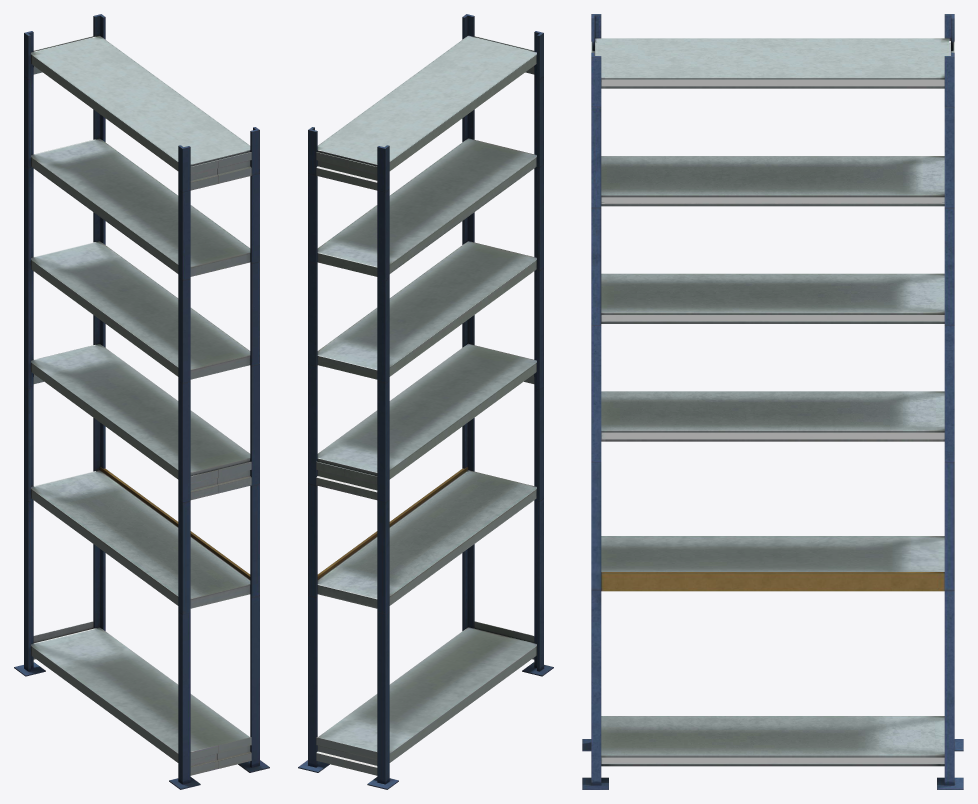
File: stelaj_bake_low.glb
The picture shows the model from 3 angles, left to right: view 1: azimuth 30°, elevation 25°; view 2: azimuth 150°, elevation 25°; view 3: azimuth 270°, elevation 25°; orthographic projection. The views are drawn at different scales.
Visible parts, largest first — view 1: 1_etaj, 3_etaj, 2_etaj, 4_etaj, 6_etaj, 5_etaj; view 2: 1_etaj, 3_etaj, 2_etaj, 4_etaj, 6_etaj, 5_etaj; view 3: 1_etaj, 2_etaj, 3_etaj, 4_etaj, 5_etaj, 6_etaj.
Boxes of the visible parts, bbox=[...] form: 1_etaj: bbox=[14, 498, 269, 789]; 3_etaj: bbox=[24, 267, 259, 502]; 2_etaj: bbox=[24, 385, 259, 614]; 4_etaj: bbox=[24, 165, 259, 383]; 6_etaj: bbox=[24, 14, 259, 192]; 5_etaj: bbox=[24, 75, 259, 280]; 1_etaj: bbox=[298, 498, 553, 789]; 3_etaj: bbox=[308, 267, 543, 502]; 2_etaj: bbox=[308, 385, 543, 614]; 4_etaj: bbox=[308, 165, 543, 383]; 6_etaj: bbox=[308, 14, 543, 192]; 5_etaj: bbox=[308, 75, 543, 280]; 1_etaj: bbox=[582, 590, 963, 789]; 2_etaj: bbox=[591, 462, 954, 591]; 3_etaj: bbox=[591, 325, 954, 462]; 4_etaj: bbox=[591, 208, 954, 325]; 5_etaj: bbox=[591, 107, 954, 208]; 6_etaj: bbox=[591, 14, 954, 106].
Size of the model in its own units: 7.69 by 52.39 by 24.83.
1 material, 1 textured.
